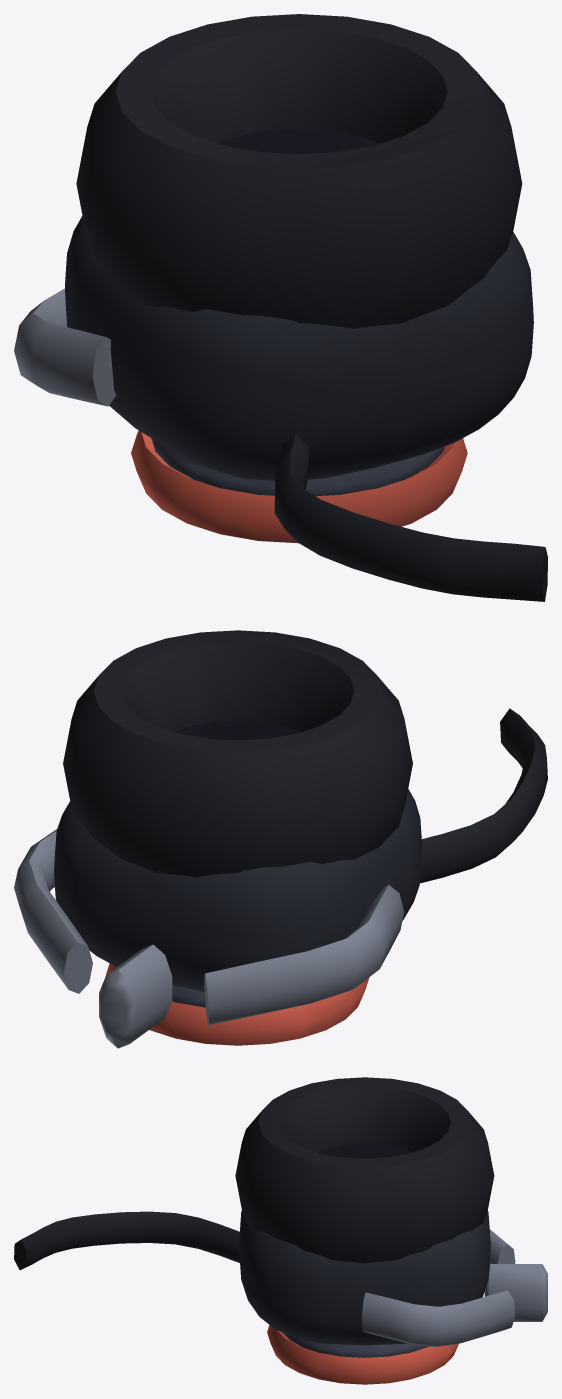
File: SM_Crew_PhoneCupL.fbx
3 views of the same model, one above another, from view 1: azimuth 30°, elevation 25°; view 2: azimuth 150°, elevation 25°; view 3: azimuth 270°, elevation 25° (orthographic). The views are drawn at different scales.
Parts seen in each view (by area): view 1: SM_Crew_PhoneCupL; view 2: SM_Crew_PhoneCupL; view 3: SM_Crew_PhoneCupL.
Part boxes in pixels (left/top/right/bottom): SM_Crew_PhoneCupL: left=14, top=14, right=547, bottom=601; SM_Crew_PhoneCupL: left=14, top=630, right=547, bottom=1048; SM_Crew_PhoneCupL: left=14, top=1077, right=547, bottom=1384.
Bounding box in the file's own units: 118 × 95.46 × 207.
